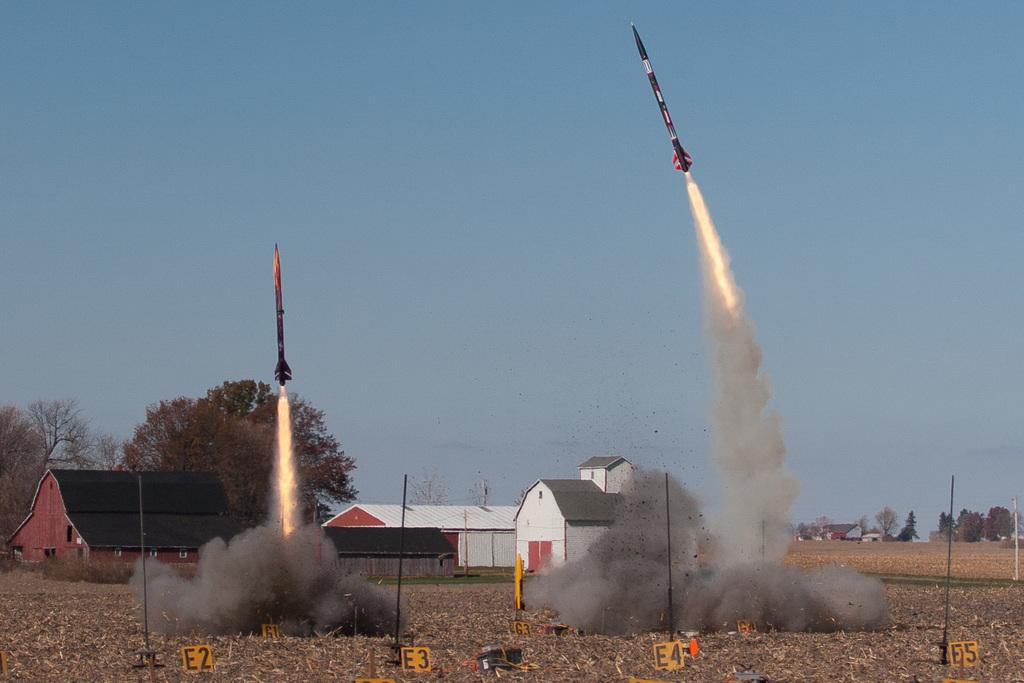Missile: (635, 19, 695, 173), (274, 237, 294, 384)
